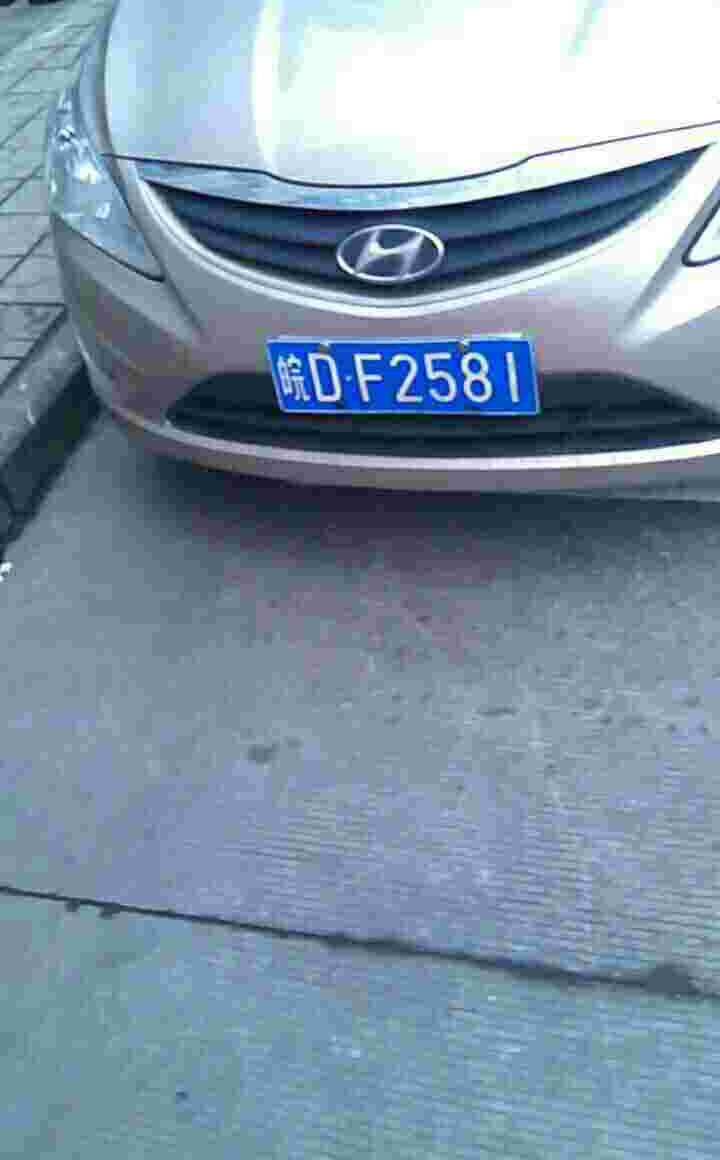plate: (262, 336, 549, 419)
